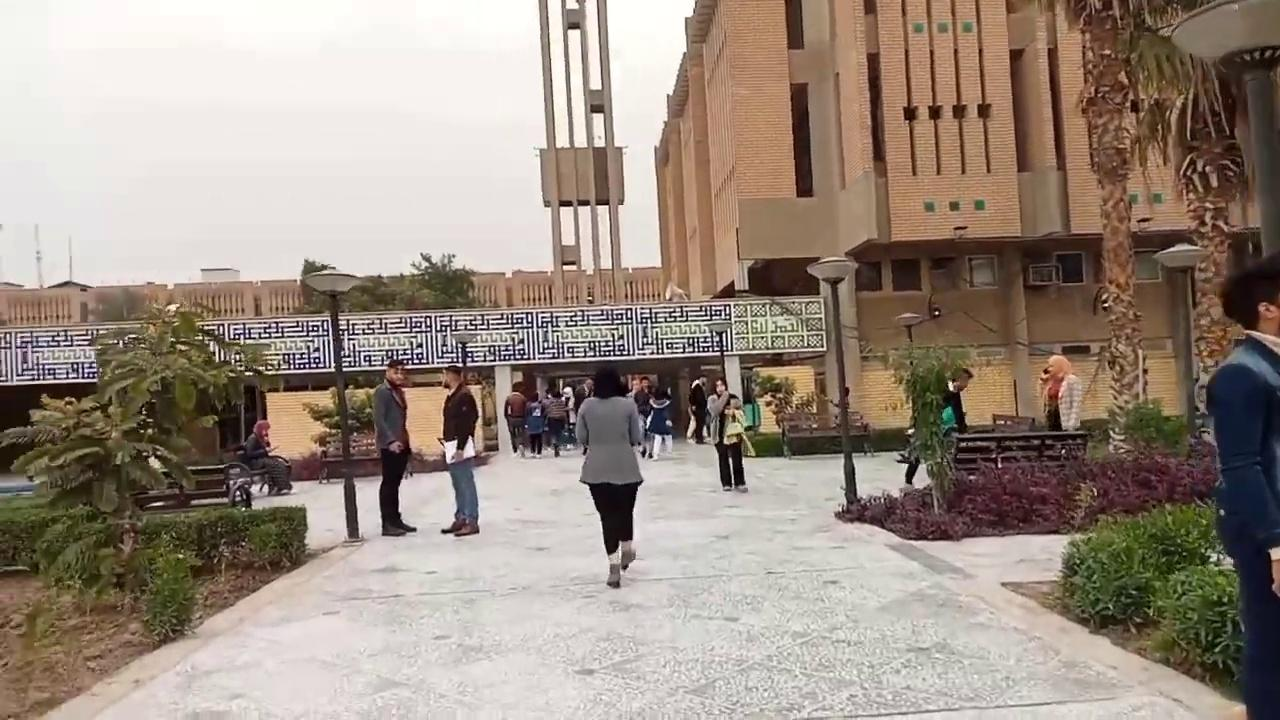person: (1205, 250, 1279, 718), (575, 365, 645, 587), (371, 358, 417, 536), (437, 364, 480, 536), (705, 377, 749, 492), (243, 420, 292, 495), (1039, 354, 1083, 432)
tree: (1016, 0, 1240, 455), (1, 298, 282, 599), (300, 262, 371, 542), (871, 336, 980, 514), (300, 383, 376, 454), (405, 250, 476, 310), (756, 373, 798, 456), (297, 257, 336, 313), (345, 274, 398, 312)
